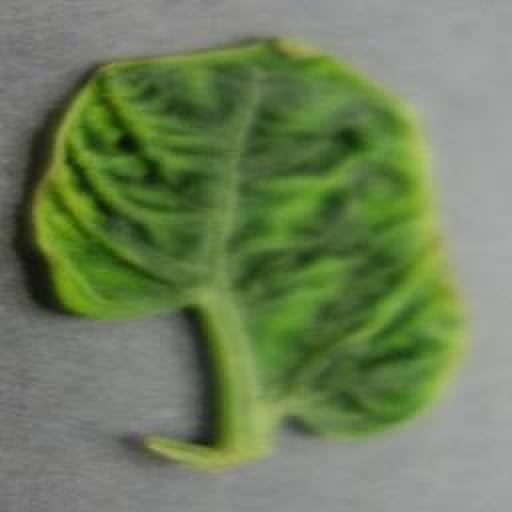Yellow Leaf Curl Virus: (31, 30, 468, 438)
